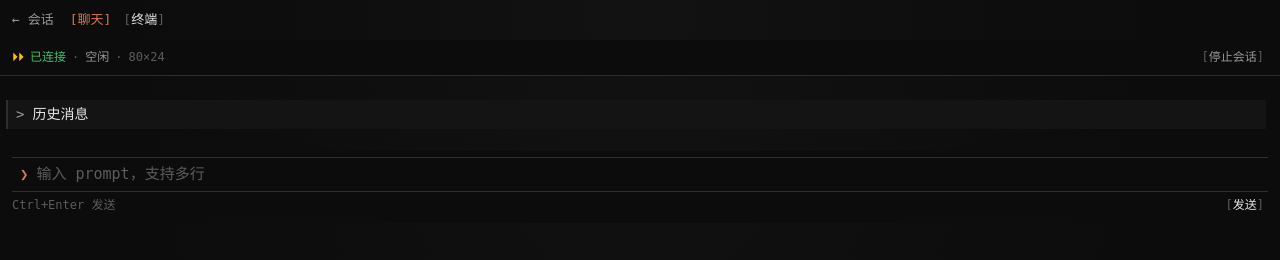
it: SessionView › keeps the prompt and warns when the socket cannot send, and disables input while disconnected
The width and height of the screenshot is (1280, 260).
Type "辛苦打的一段话" into the text box with placeholder "输入 prompt，支持多行" at (648, 175), box [36, 163, 1260, 186]
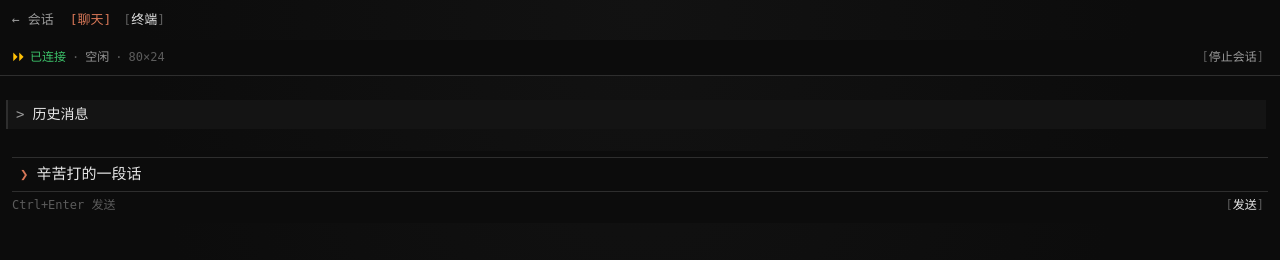
Click the button with test id "send" at (1245, 206), box [1222, 194, 1268, 217]
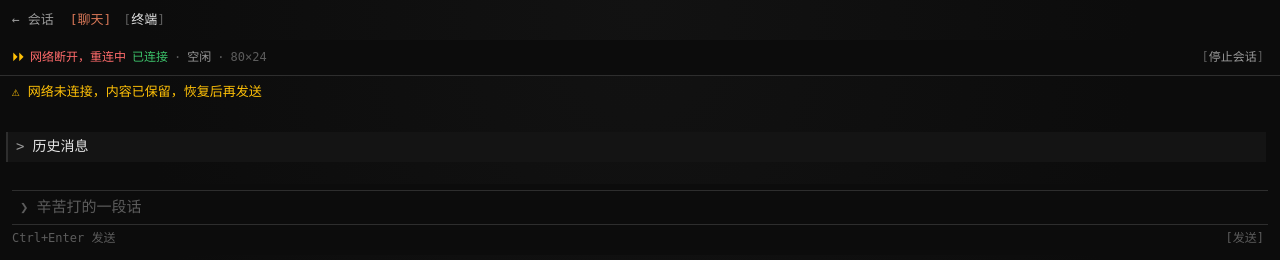
Result: the text "内容已保留" is shown at [12, 84, 262, 99]
Result: the text box is disabled at [36, 196, 1260, 219]
